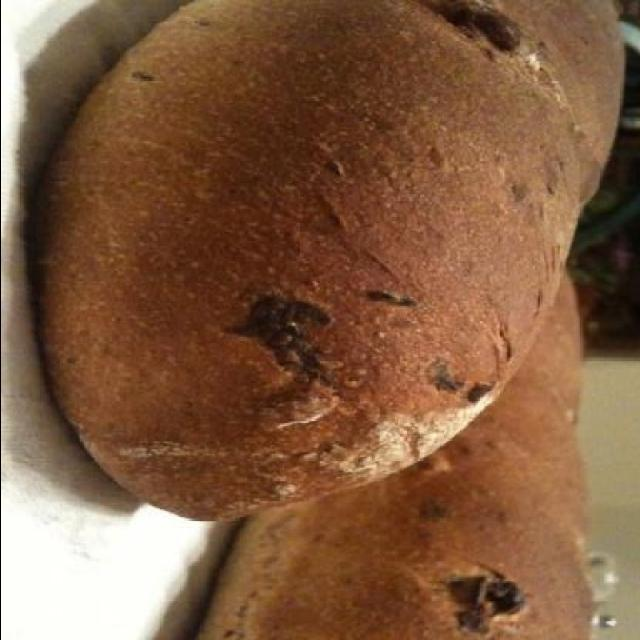Bread: (26, 0, 626, 522), (194, 267, 588, 639)
